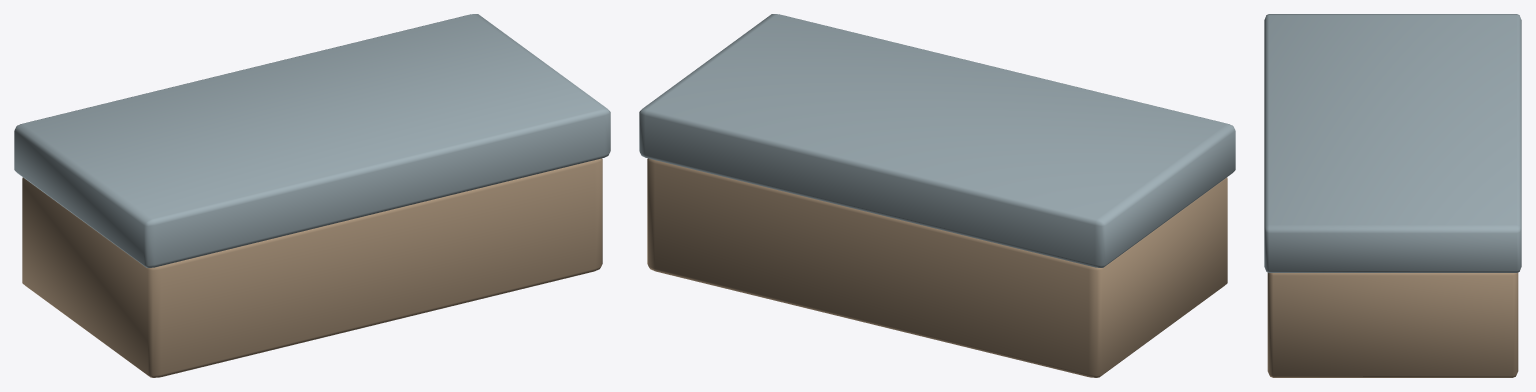
The model's file is ServingStation.fbx.
3 renders of one model, left to right at view 1: azimuth 30°, elevation 25°; view 2: azimuth 150°, elevation 25°; view 3: azimuth 270°, elevation 25°, orthographic. The views are drawn at different scales.
Visible parts, largest first — view 1: ServingStation; view 2: ServingStation; view 3: ServingStation.
Boxes of the visible parts, x1,y1,x2,y2 form: ServingStation: (14, 14, 610, 377); ServingStation: (639, 14, 1235, 377); ServingStation: (1264, 14, 1521, 377).
Bounding box in the file's own units: 2 × 0.664 × 1.
